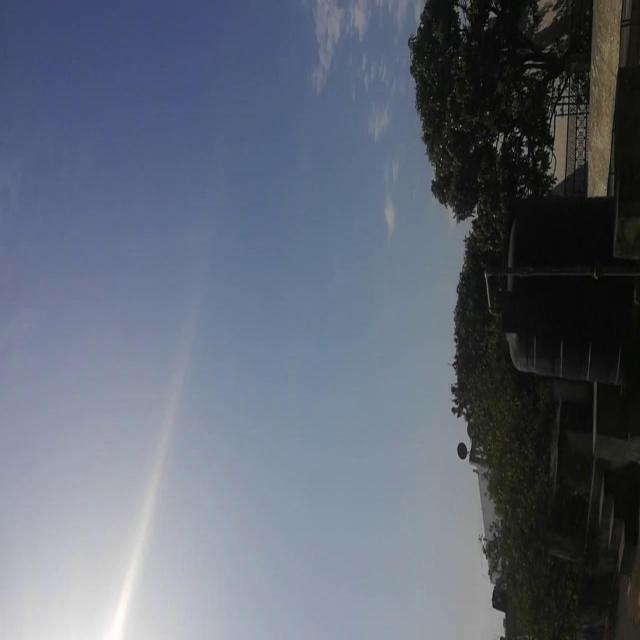other: (33, 564, 138, 638)
